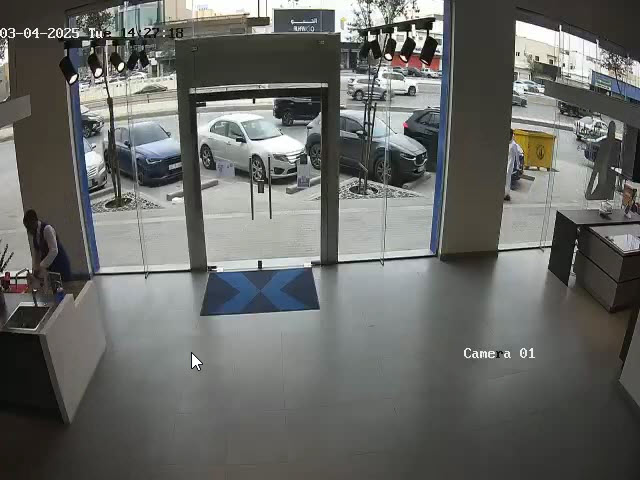employee: (23, 209, 72, 281)
male: (507, 124, 523, 205)
